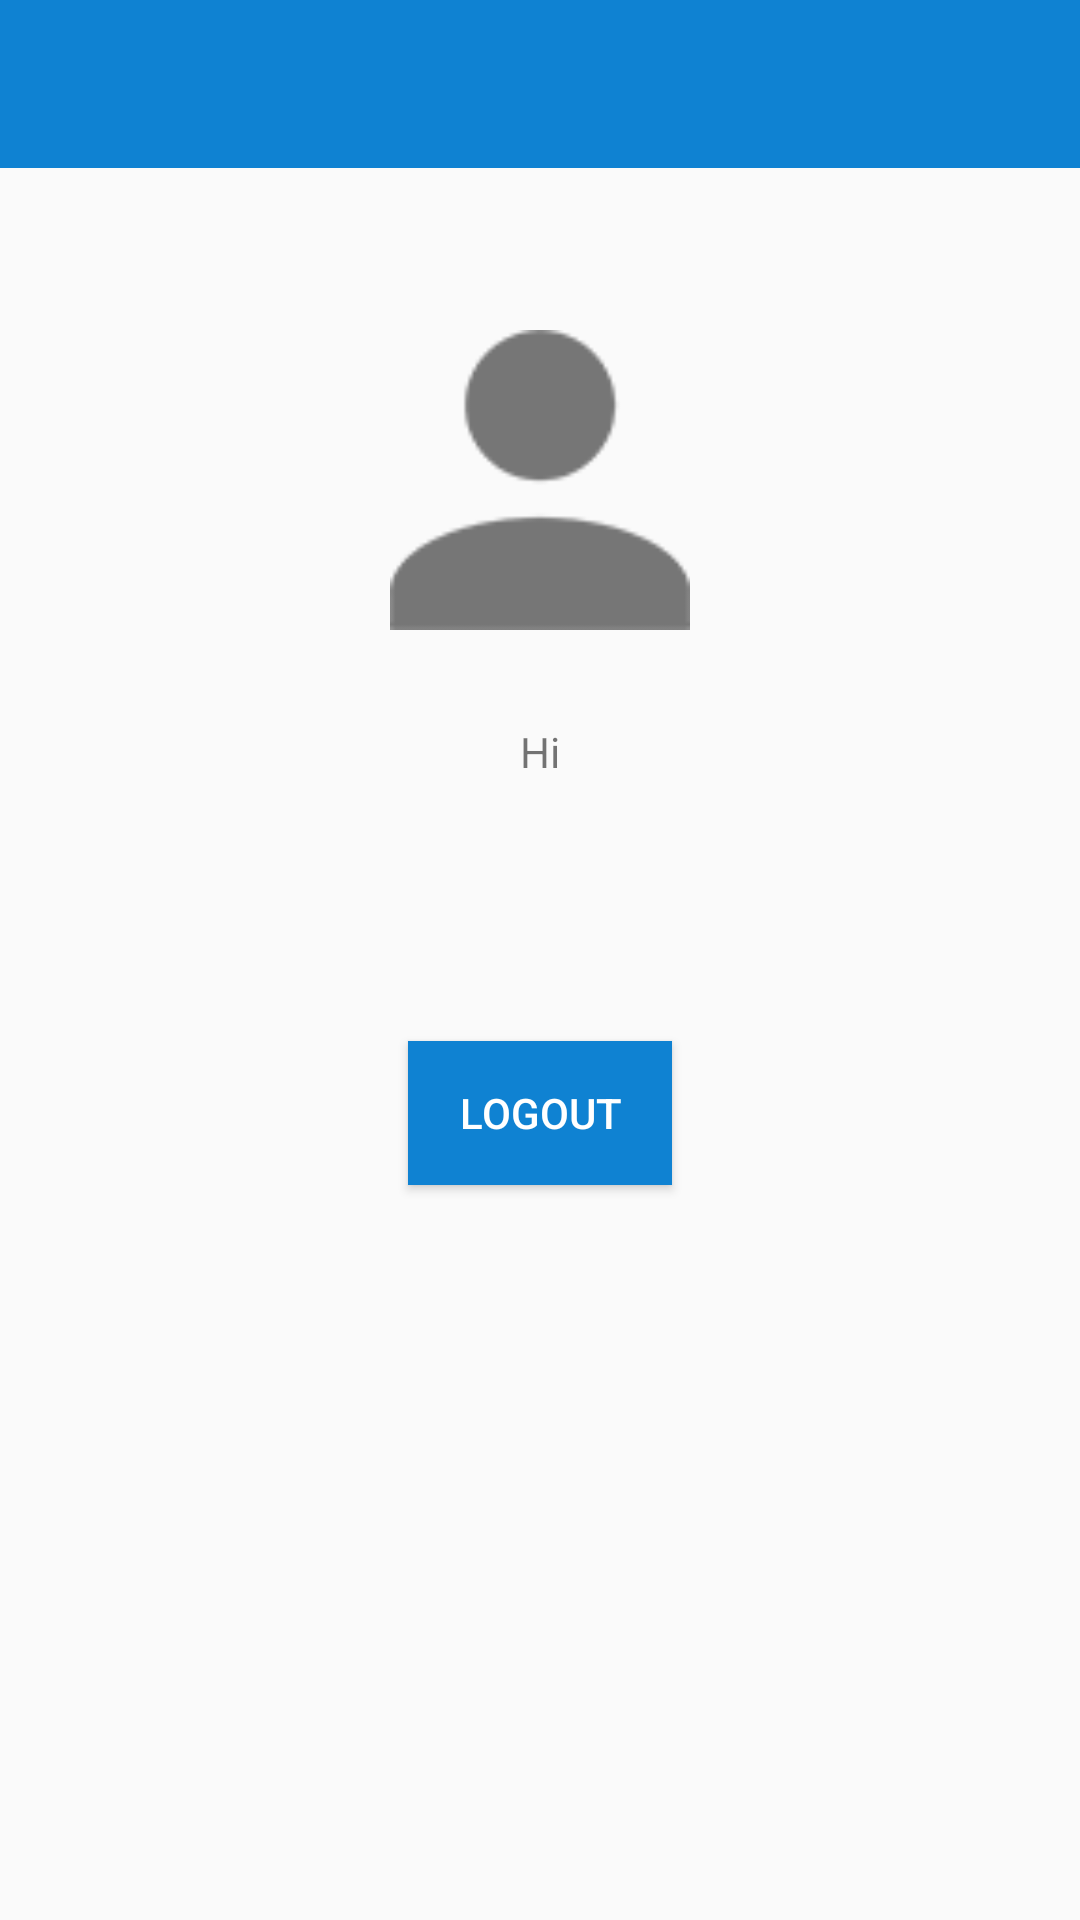

Point at icon controls on the screen. Image size 1080x1920, points as (x,y).
anonymus: (540,480)
